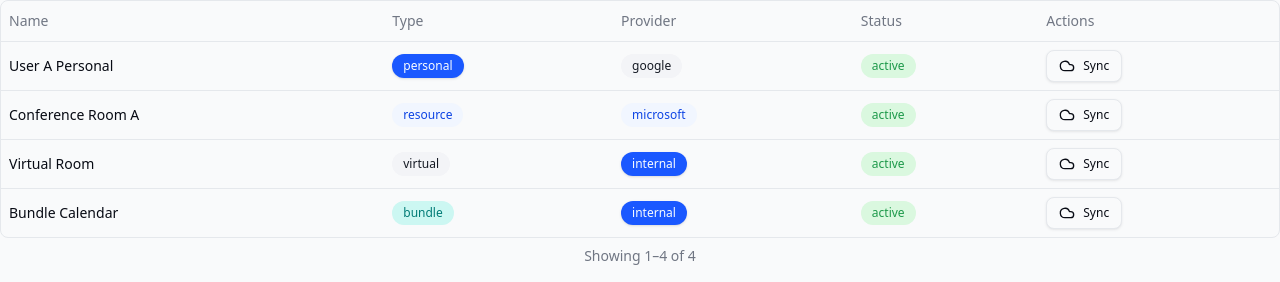
AllCalendarsTable › sync calendar action › disables sync button while mutation is in progress
The image size is (1280, 282).
Expected: the text "User A Personal" is shown, [9,56,113,74]
// Click the first sync button.
Click the button "Sync" in the row of "User A Personal" at (1084, 66), box [1046,50,1122,82]
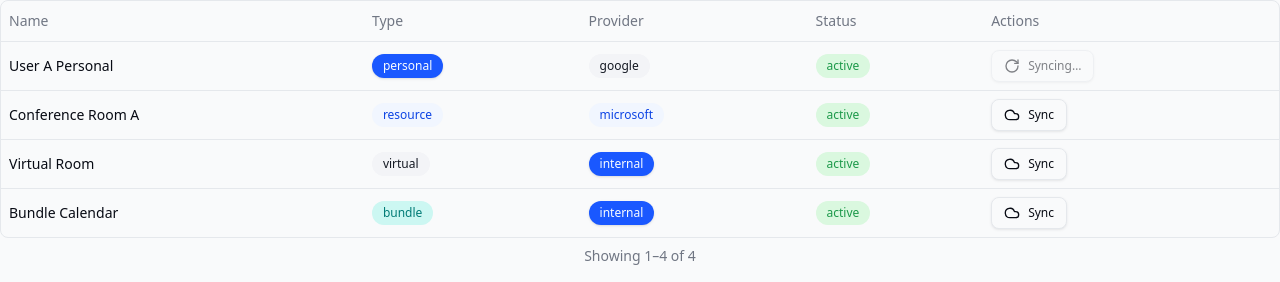
Result: the button "Syncing…" is shown at [991,50,1094,82]
